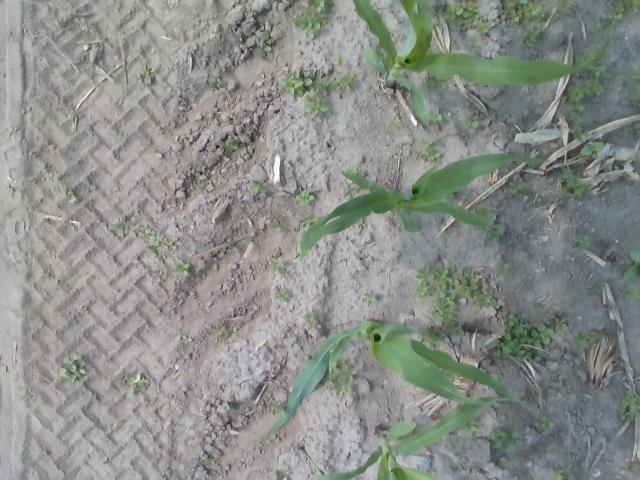Maize: (351, 0, 615, 129), (262, 319, 524, 447), (298, 154, 550, 260), (310, 396, 518, 480)
Weeds: (492, 312, 554, 364), (562, 78, 604, 123), (458, 266, 500, 308), (294, 0, 334, 41), (412, 263, 459, 296), (431, 290, 464, 336), (133, 222, 169, 258), (324, 360, 360, 395), (572, 48, 612, 78), (438, 0, 479, 28), (602, 0, 640, 28), (500, 0, 546, 23), (557, 164, 590, 196), (278, 69, 312, 98), (58, 351, 88, 382), (488, 426, 522, 452), (312, 72, 355, 92), (120, 370, 149, 398), (302, 92, 330, 118), (616, 390, 640, 420), (417, 327, 445, 352), (418, 138, 446, 162), (570, 328, 598, 350), (622, 249, 640, 282), (520, 21, 542, 48), (470, 204, 490, 232), (420, 71, 447, 91), (464, 413, 484, 438), (423, 107, 449, 126), (108, 216, 130, 237), (486, 222, 506, 245), (580, 140, 604, 158), (170, 257, 191, 277), (59, 186, 82, 204), (138, 62, 156, 85), (551, 464, 576, 480), (534, 414, 554, 434), (268, 256, 288, 276), (618, 66, 640, 84), (217, 138, 239, 156), (436, 366, 459, 382), (207, 75, 226, 94), (506, 182, 526, 200), (294, 189, 314, 207), (374, 44, 390, 66), (300, 308, 318, 327), (570, 124, 590, 141), (256, 38, 274, 56), (475, 16, 492, 35), (193, 171, 210, 190), (295, 212, 316, 227), (494, 262, 513, 278), (624, 282, 640, 300), (576, 234, 594, 250), (446, 188, 466, 202), (626, 460, 640, 480), (270, 398, 286, 415), (250, 180, 267, 196), (545, 5, 560, 23), (383, 120, 401, 134), (630, 84, 640, 109), (198, 448, 213, 464), (552, 317, 569, 331), (556, 2, 574, 15), (464, 112, 479, 127), (273, 288, 289, 302), (360, 292, 378, 304), (343, 166, 364, 176), (217, 326, 230, 342), (152, 270, 167, 283), (628, 120, 640, 136), (332, 54, 347, 66), (176, 332, 188, 346), (270, 220, 282, 234), (469, 38, 482, 50), (590, 18, 601, 32), (426, 46, 443, 55), (226, 243, 238, 252), (136, 44, 146, 54), (631, 154, 640, 164), (271, 471, 280, 480), (452, 44, 461, 50), (9, 127, 18, 132), (253, 131, 259, 136)
